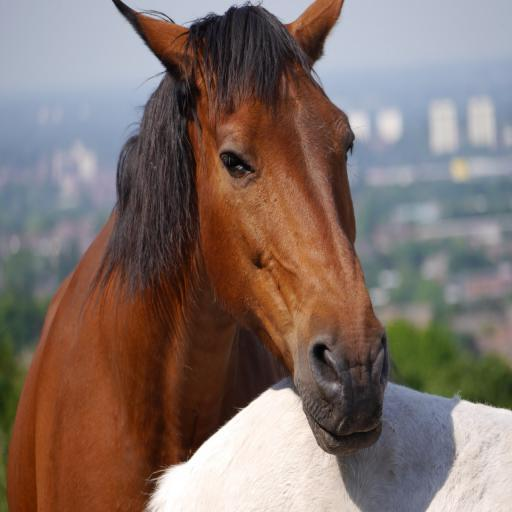horse: (8, 0, 392, 512)
